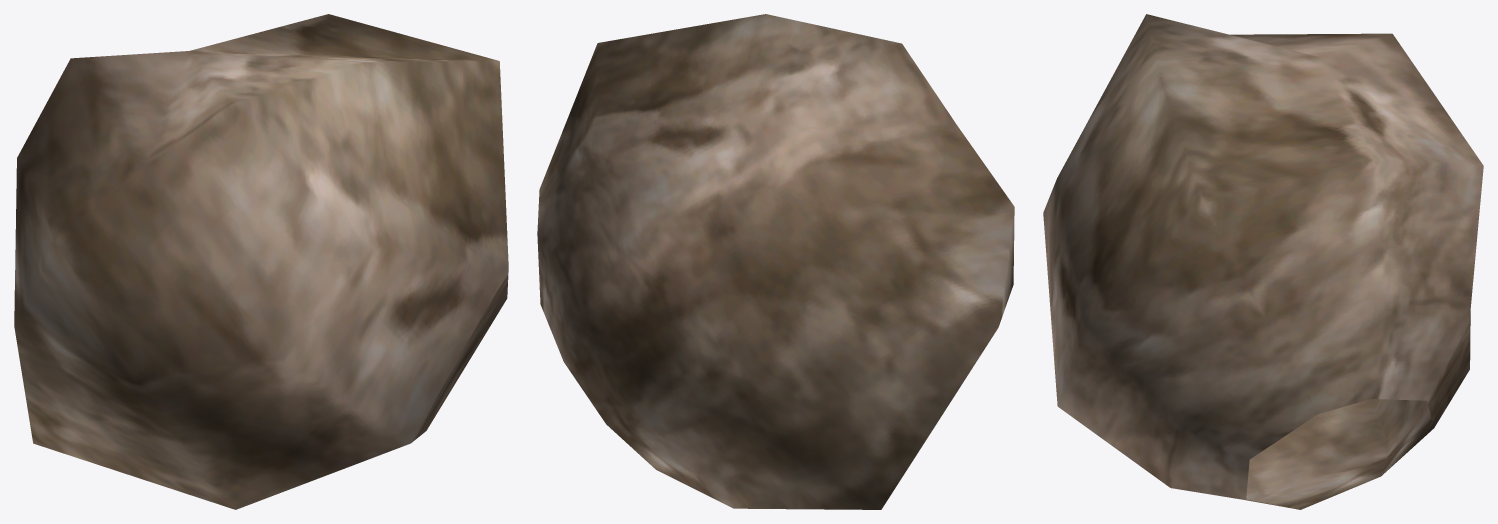
The model's file is OVERHILL_A_01_ROCK54.fbx.
3 renders of one model, left to right at view 1: azimuth 30°, elevation 25°; view 2: azimuth 150°, elevation 25°; view 3: azimuth 270°, elevation 25°, orthographic. The views are drawn at different scales.
Visible parts, largest first — view 1: OVERHILL_A_01_ROCK54; view 2: OVERHILL_A_01_ROCK54; view 3: OVERHILL_A_01_ROCK54.
Part boxes in pixels (bbox=[...]): OVERHILL_A_01_ROCK54: bbox=[14, 14, 508, 509]; OVERHILL_A_01_ROCK54: bbox=[537, 14, 1014, 509]; OVERHILL_A_01_ROCK54: bbox=[1043, 14, 1483, 509].
Size of the model in its own units: 8950 by 7960 by 7282.
1 material, 1 textured.
